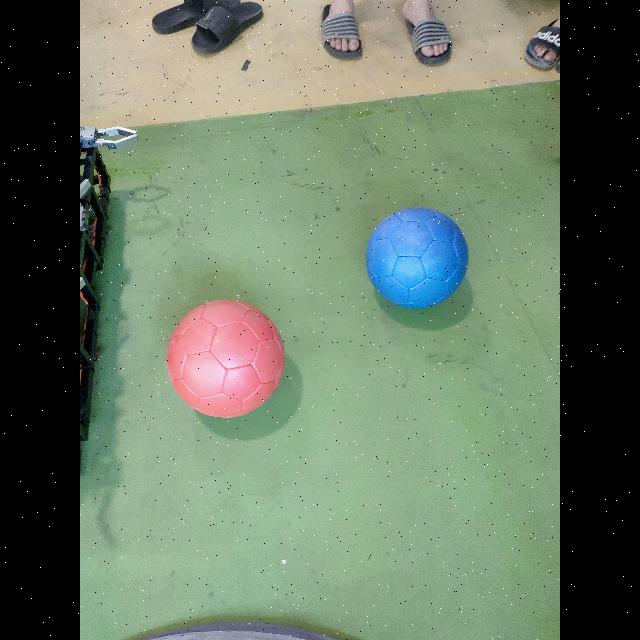B: (366, 208, 469, 308)
R: (167, 300, 284, 417)
